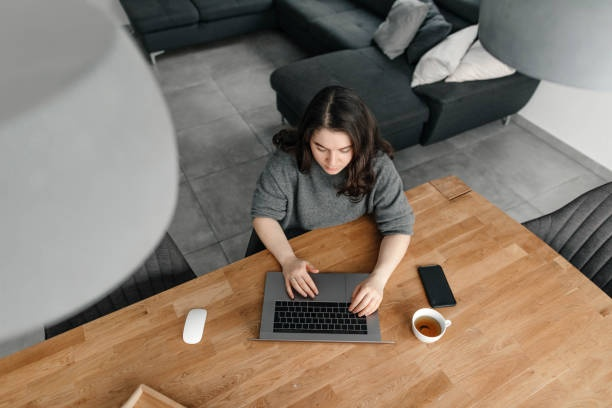keyboard: (272, 299, 369, 334)
laptop: (254, 270, 395, 346)
person: (243, 86, 415, 312)
phone: (417, 263, 458, 308)
